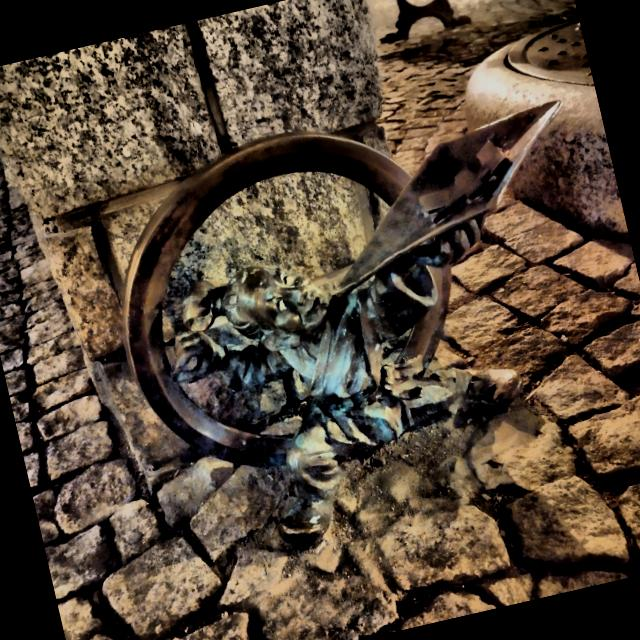TianTian: (124, 101, 559, 545)
